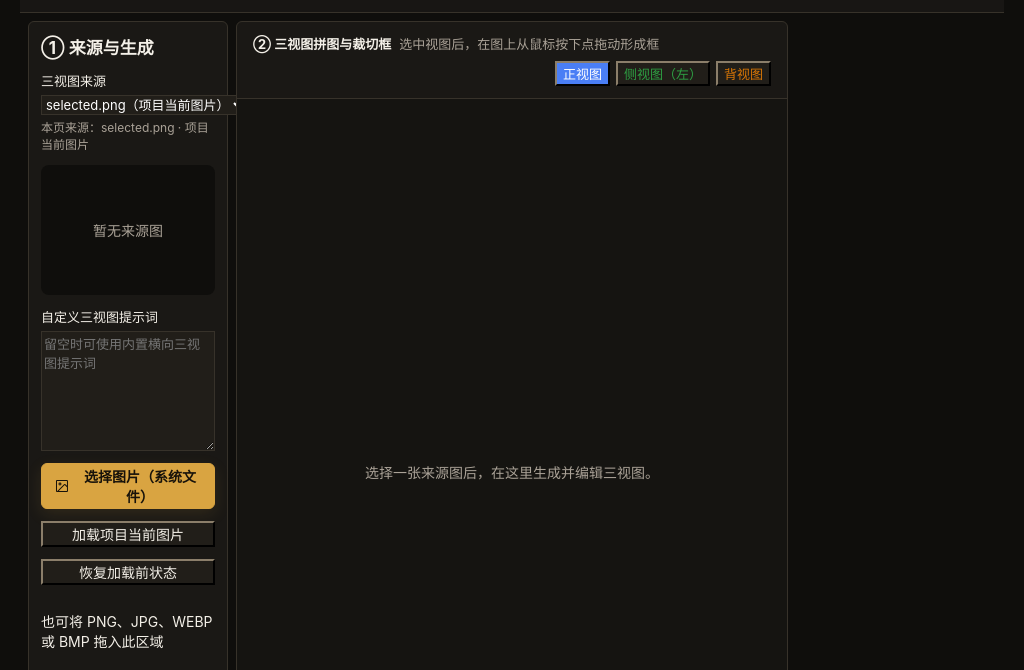
Test: MultiviewWorkspace › opens the native chooser from the prominent source action and selects the import
Step 1. Click the button "选择图片（系统文件）" → (128, 486), box [41,463,215,509]
(page scrolled)
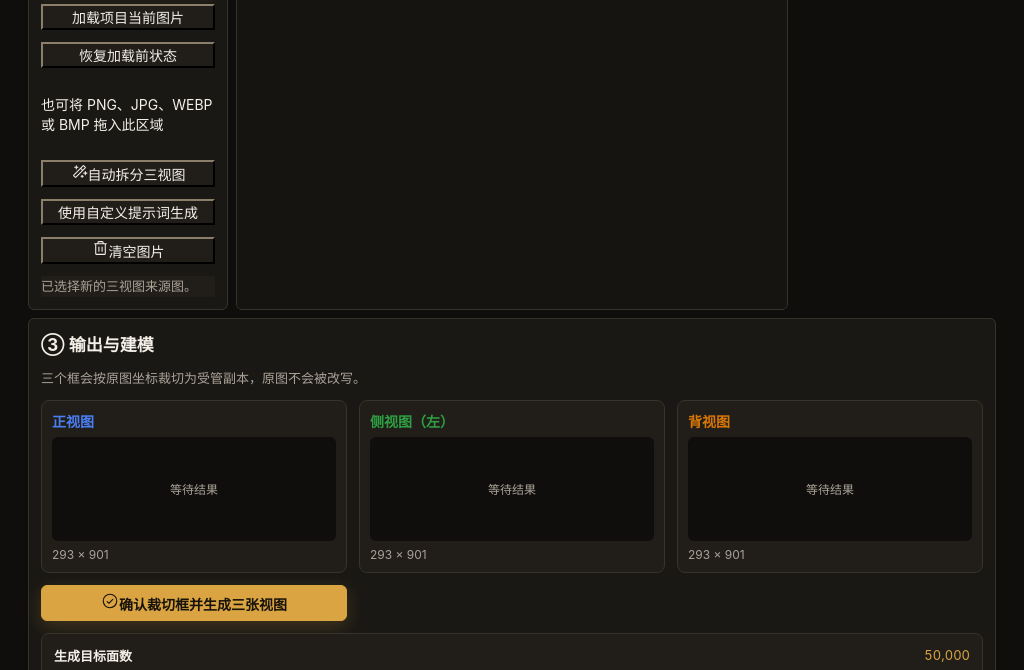
Result: the message shows "已选择新的三视图来源图" at [41,278,197,294]
